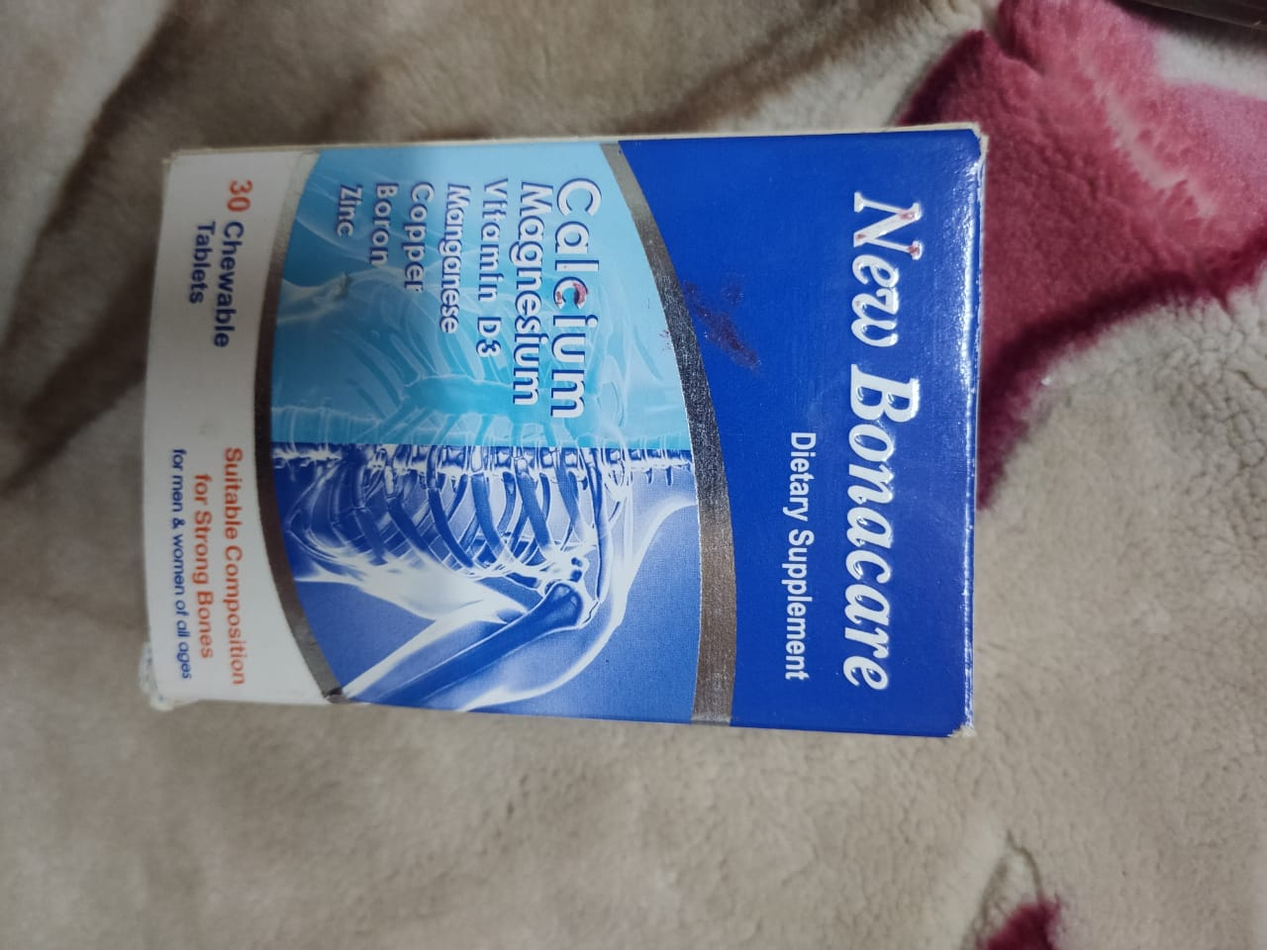Medicine: (124, 119, 1000, 762)
